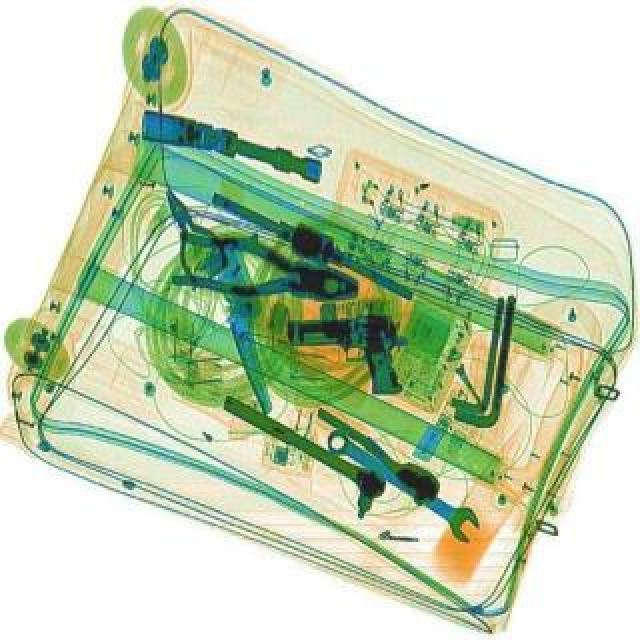gun: (288, 310, 414, 398)
scissors: (320, 420, 488, 542)
wrench: (170, 228, 366, 312), (148, 178, 236, 286)
